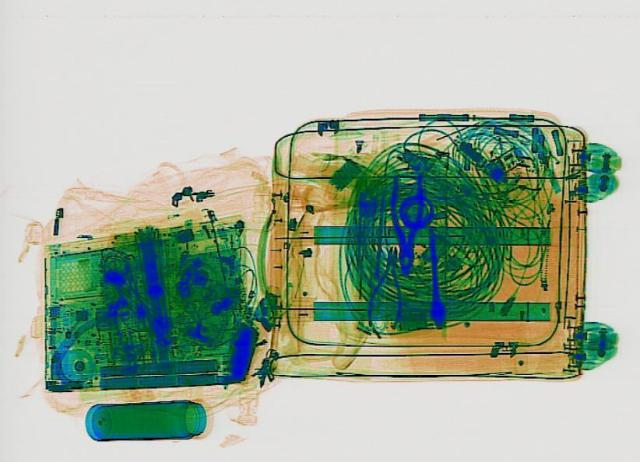Pliers: (364, 244, 410, 329), (386, 172, 424, 270)
